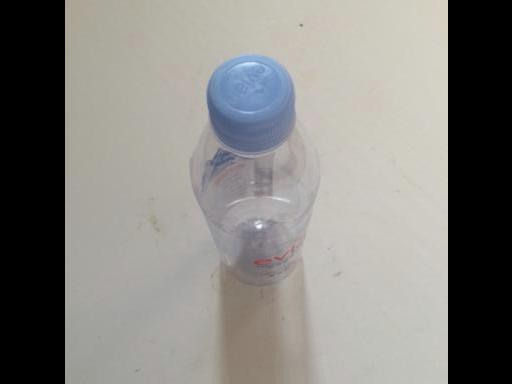PET: (190, 53, 321, 287)
evian: (190, 53, 321, 287)
plastic: (190, 53, 321, 287)
water: (190, 53, 321, 287)
